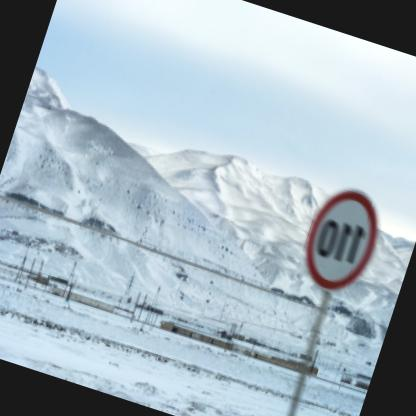speedlimit: (296, 177, 392, 298)
